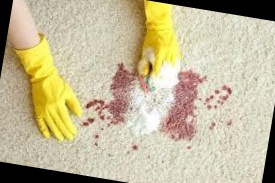wine: (77, 63, 140, 141), (163, 65, 210, 145), (202, 79, 236, 113), (204, 113, 235, 134), (122, 139, 146, 158)
